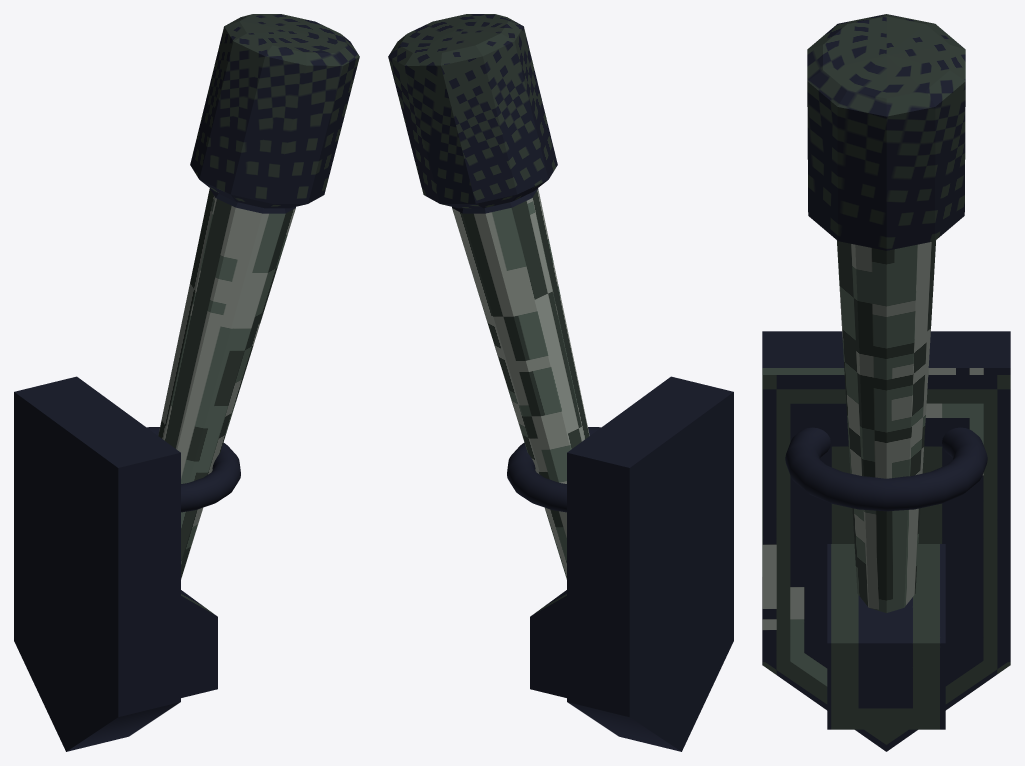
Rendered from SM_Torch_02.fbx.
3 views of the same model, side by side, from view 1: azimuth 30°, elevation 25°; view 2: azimuth 150°, elevation 25°; view 3: azimuth 270°, elevation 25° (orthographic). The views are drawn at different scales.
Visible parts, largest first — view 1: SM_Torch_02; view 2: SM_Torch_02; view 3: SM_Torch_02.
Part boxes in pixels (bbox=[...]): SM_Torch_02: bbox=[14, 14, 359, 751]; SM_Torch_02: bbox=[388, 14, 733, 751]; SM_Torch_02: bbox=[762, 14, 1010, 751].
Size of the model in its own units: 58.57 by 133 by 37.13.
